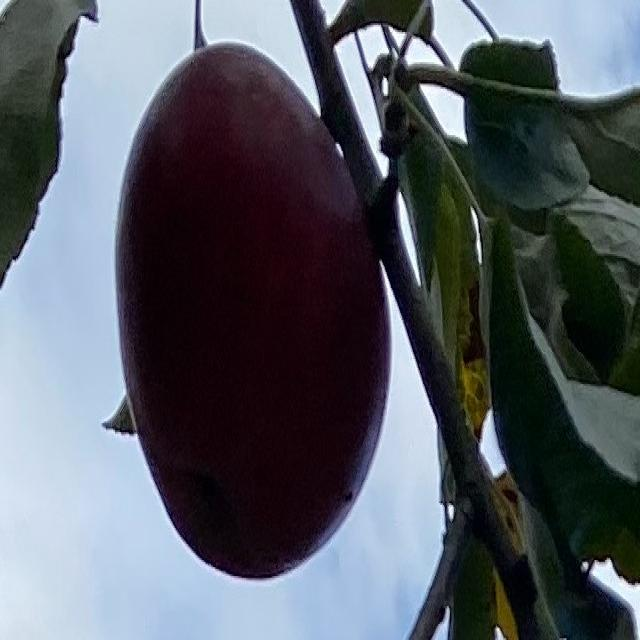100-_ripeness: (115, 42, 391, 578)
